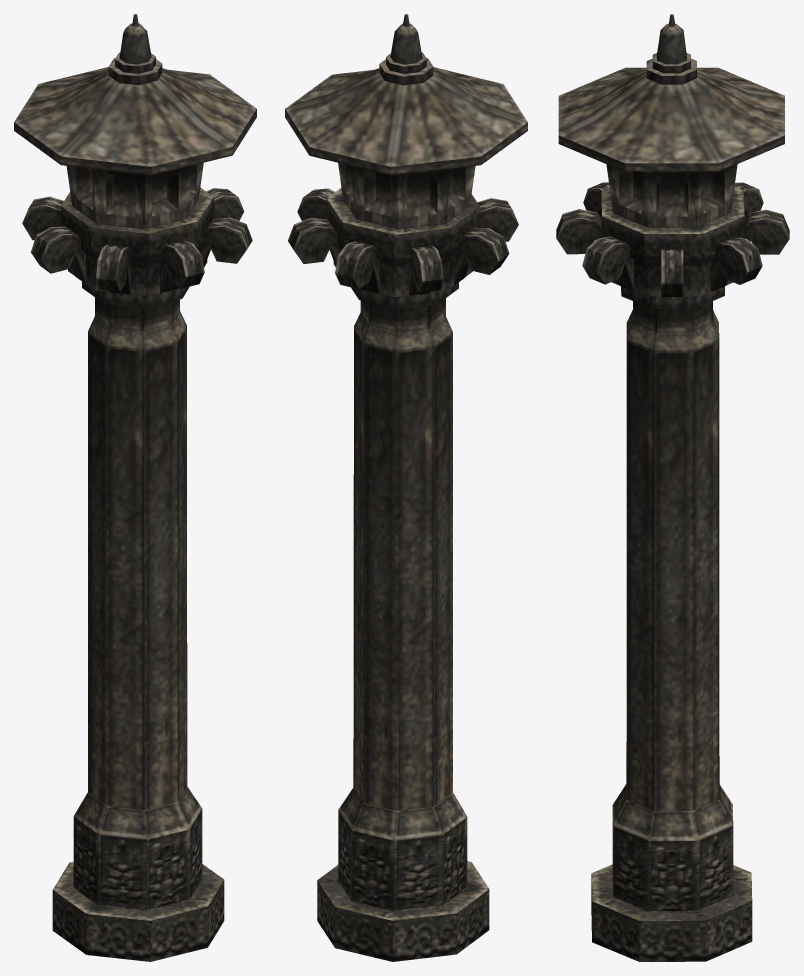
The model's file is a1_018-stonelight_01.glb.
3 renders of one model, left to right at view 1: azimuth 30°, elevation 25°; view 2: azimuth 150°, elevation 25°; view 3: azimuth 270°, elevation 25°, orthographic.
Parts seen in each view (by area): view 1: a1-018-stonelight-01; view 2: a1-018-stonelight-01; view 3: a1-018-stonelight-01.
Boxes of the visible parts, x1=… form: a1-018-stonelight-01: x1=14, y1=14, x2=256, y2=961; a1-018-stonelight-01: x1=285, y1=14, x2=527, y2=961; a1-018-stonelight-01: x1=556, y1=14, x2=789, y2=961.
Size of the model in its own units: 2.05 by 8.85 by 2.05.
Materials: 1 (1 with a texture image).
